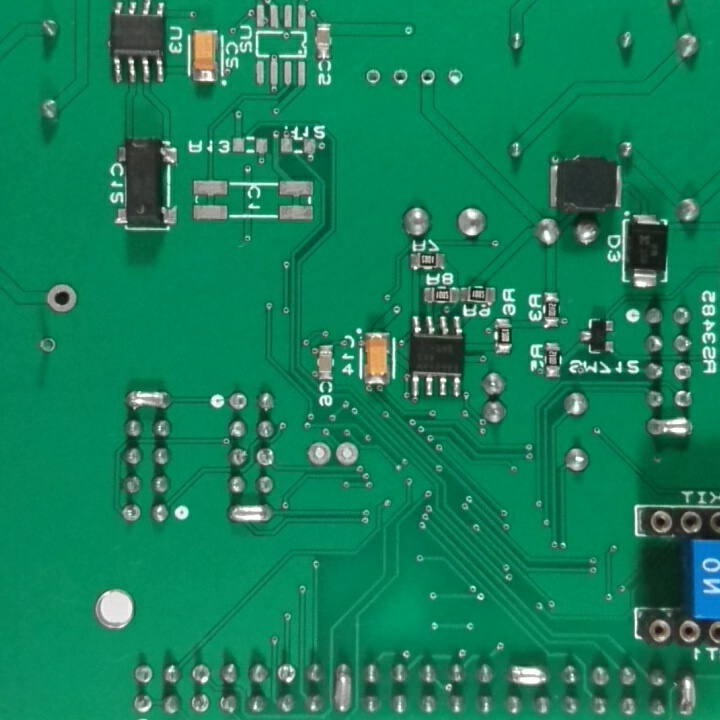F: (44, 282, 82, 314), (333, 440, 364, 468), (304, 440, 333, 469), (673, 358, 695, 386), (274, 663, 299, 687), (118, 503, 143, 525), (255, 446, 277, 471), (189, 690, 210, 716), (131, 693, 153, 715), (36, 335, 59, 355), (362, 68, 384, 88), (228, 391, 247, 413), (419, 66, 436, 90), (447, 69, 469, 87), (393, 66, 409, 89)
P: (222, 500, 279, 529), (642, 413, 696, 441), (506, 660, 550, 689), (331, 662, 354, 716), (124, 386, 174, 410), (677, 669, 699, 720)
